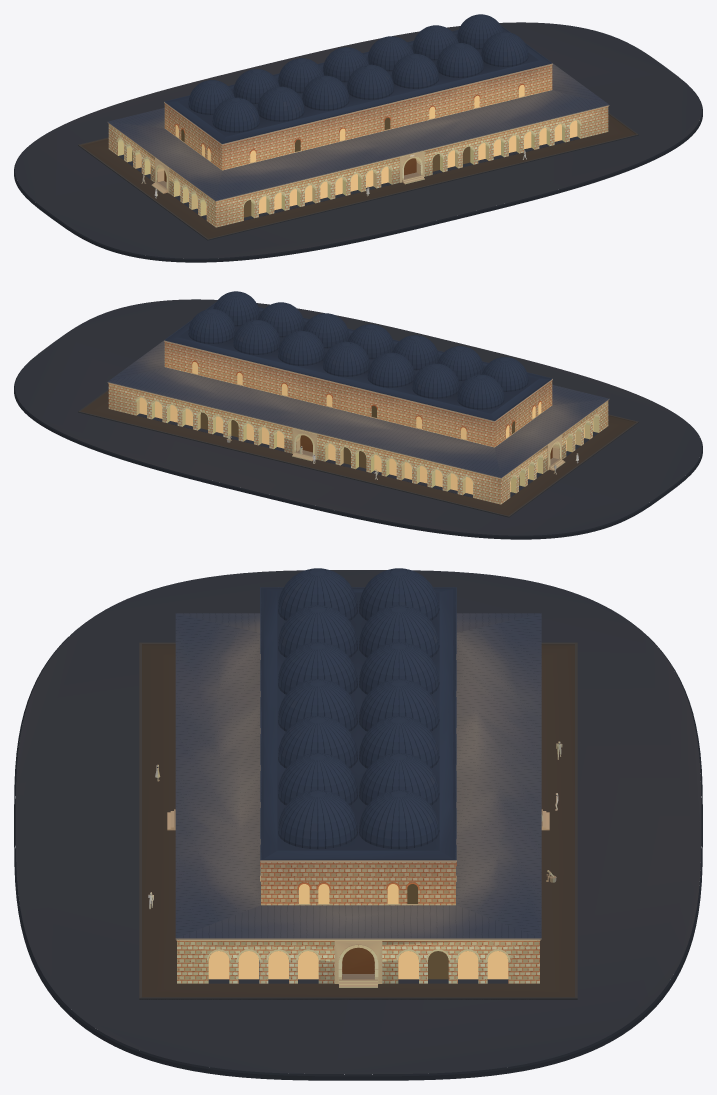
File: bedesten_v06_night_sunum.glb
The picture shows the model from 3 angles, top to bottom: view 1: azimuth 30°, elevation 25°; view 2: azimuth 150°, elevation 25°; view 3: azimuth 270°, elevation 25°; orthographic projection. The views are drawn at different scales.
Visible parts, largest first — view 1: Zemin, Cati, Kubbeler, Dukkanlar, Govde, Zemin_Serit, Sacak, Zemin_Bordur, Pencereler, Kapilar, Dukkan_Kapilari; view 2: Zemin, Cati, Kubbeler, Dukkanlar, Govde, Zemin_Serit, Sacak, Zemin_Bordur, Pencereler, Kapilar, Dukkan_Kapilari; view 3: Zemin, Cati, Kubbeler, Zemin_Serit, Dukkanlar, Govde, Zemin_Bordur, Sacak, Kapilar, Pencereler.
Boxes of the visible parts, left/top/right/bottom form: Zemin: left=14, top=22, right=702, bottom=262; Cati: left=107, top=28, right=609, bottom=201; Kubbeler: left=188, top=14, right=528, bottom=132; Dukkanlar: left=108, top=106, right=608, bottom=227; Govde: left=164, top=26, right=552, bottom=170; Zemin_Serit: left=81, top=114, right=635, bottom=238; Sacak: left=108, top=25, right=608, bottom=202; Zemin_Bordur: left=78, top=112, right=638, bottom=240; Pencereler: left=175, top=83, right=525, bottom=163; Kapilar: left=151, top=151, right=424, bottom=193; Dukkan_Kapilari: left=117, top=119, right=581, bottom=206; Zemin: left=14, top=299, right=702, bottom=539; Cati: left=107, top=305, right=609, bottom=478; Kubbeler: left=188, top=291, right=528, bottom=409; Dukkanlar: left=108, top=383, right=608, bottom=504; Govde: left=164, top=303, right=552, bottom=447; Zemin_Serit: left=81, top=391, right=635, bottom=515; Sacak: left=108, top=302, right=608, bottom=479; Zemin_Bordur: left=78, top=389, right=638, bottom=517; Pencereler: left=191, top=360, right=541, bottom=440; Kapilar: left=292, top=428, right=565, bottom=470; Dukkan_Kapilari: left=135, top=396, right=599, bottom=483; Zemin: left=14, top=570, right=702, bottom=1080; Cati: left=175, top=589, right=541, bottom=939; Kubbeler: left=278, top=568, right=439, bottom=849; Zemin_Serit: left=140, top=645, right=577, bottom=999; Dukkanlar: left=177, top=941, right=539, bottom=983; Govde: left=261, top=587, right=455, bottom=905; Zemin_Bordur: left=139, top=642, right=577, bottom=999; Sacak: left=176, top=587, right=540, bottom=940; Kapilar: left=167, top=809, right=549, bottom=987; Pencereler: left=260, top=654, right=456, bottom=904.
Size of the model in its own units: 110 by 14.8 by 63.63.
18 materials, 3 textured.
